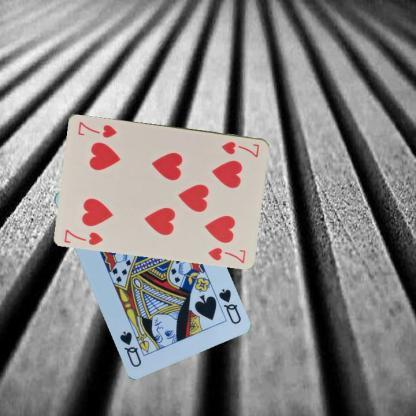7h: (62, 226, 104, 246), (219, 138, 260, 158)
Qs: (216, 286, 243, 326)
